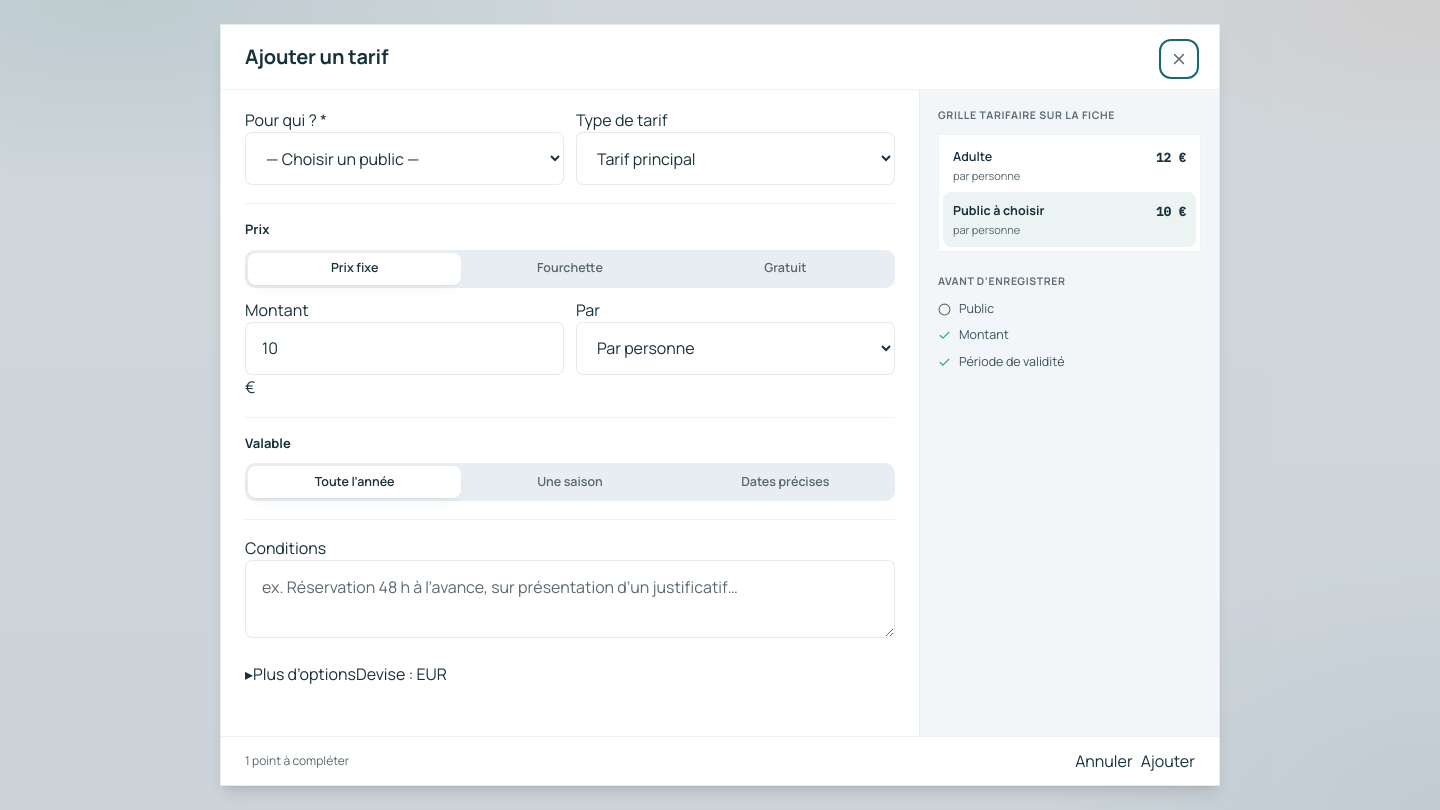
it: PricingLineEditModal (C · Aperçu) › blocks save until a public is chosen
Click the button "Ajouter" at (1168, 761), box [1141,749,1195,773]
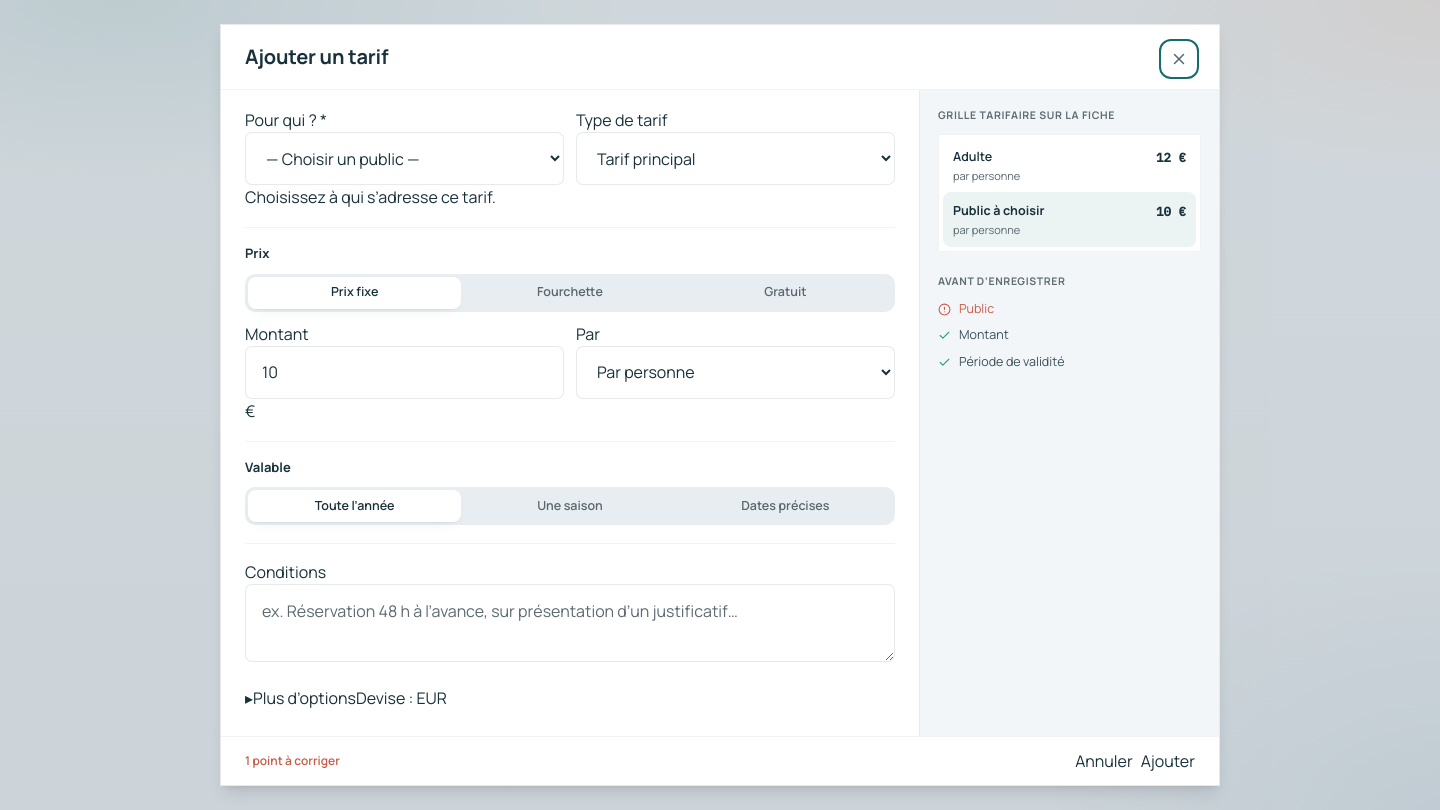
Result: the message reads "Choisissez à qui s’adresse ce tarif." at [245,186,496,208]
